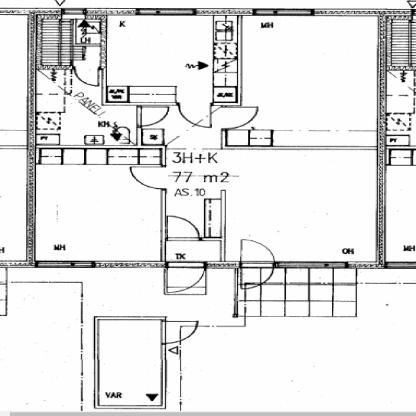door: (238, 238, 275, 288), (166, 263, 206, 297), (177, 103, 212, 129), (217, 107, 255, 130), (128, 166, 165, 189), (164, 216, 199, 240), (161, 322, 199, 344), (137, 107, 169, 126), (72, 67, 102, 86)
window: (280, 262, 348, 269), (136, 6, 194, 14), (36, 260, 94, 268), (254, 9, 311, 15), (60, 7, 87, 15)
zone: (137, 14, 377, 145), (166, 148, 375, 260), (36, 146, 160, 259), (41, 13, 135, 144), (106, 14, 234, 102), (95, 317, 161, 407)
